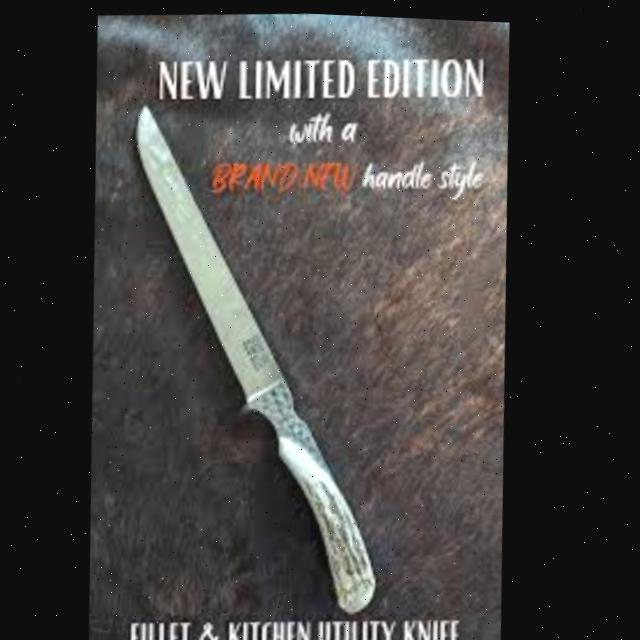knife: (108, 88, 409, 622)
